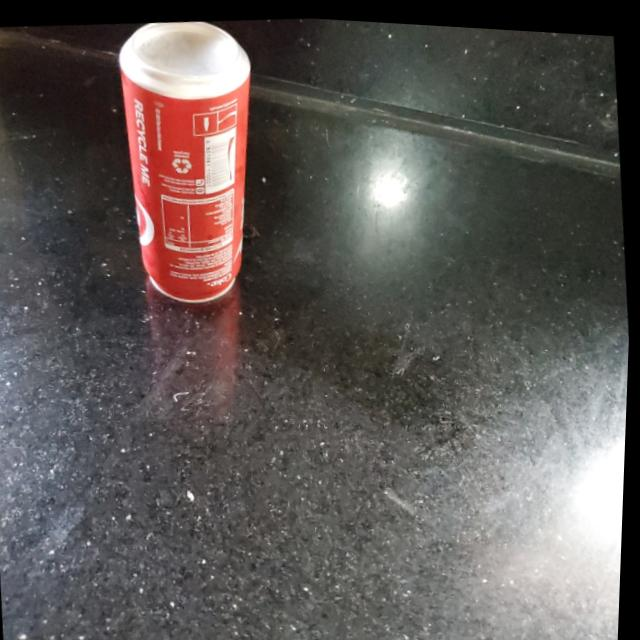coke: (114, 14, 277, 311)
